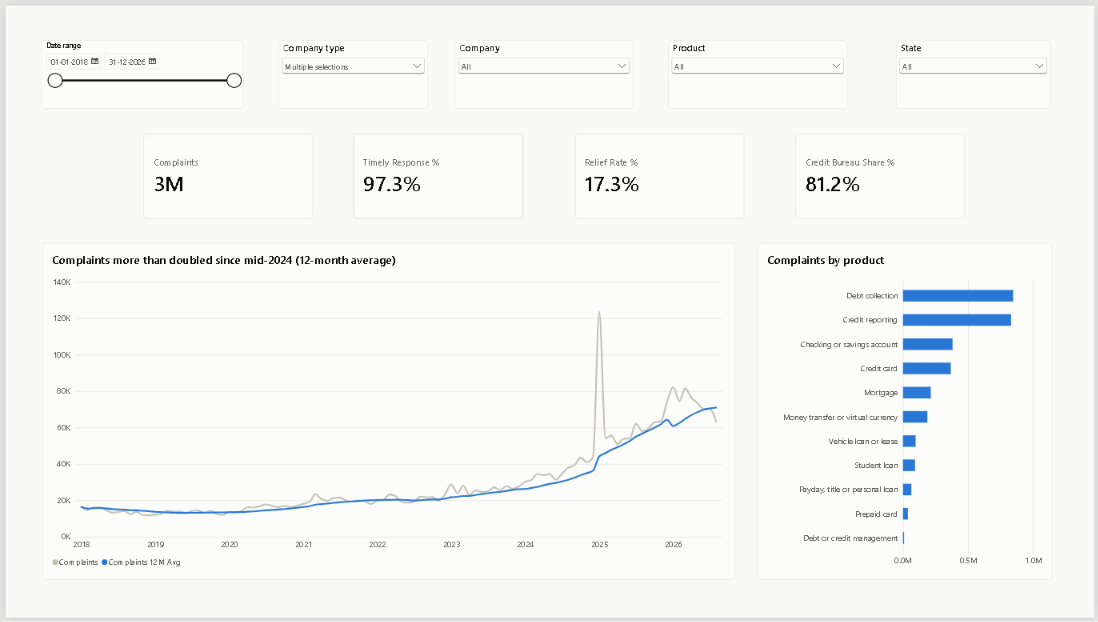

The dashboard page shown, as its layout file describes it:
{"tool":"powerbi","page":{"name":"Executive Overview","canvas":[1920,1080],"ordinal":0},"visuals":[{"type":"cardVisual","fields":{"Data":["_Measures.Complaints"]},"box":[241.7,226.7,300,150],"z":0},{"type":"cardVisual","fields":{"Data":["_Measures.Timely Response %"]},"box":[613.3,226.7,300,150],"z":1000},{"type":"cardVisual","fields":{"Data":["_Measures.Relief Rate %"]},"box":[1003.3,226.7,300,150],"z":2000},{"type":"cardVisual","fields":{"Data":["_Measures.Credit Bureau Share %"]},"box":[1393.3,226.7,300,150],"z":3000},{"type":"slicer","fields":{"Values":["dim_date.date"]},"box":[63.8,61.5,356.8,120.5],"z":4000},{"type":"slicer","fields":{"Values":["dim_company.company_type"]},"box":[482,61.5,263.6,120.5],"z":5000},{"type":"slicer","fields":{"Values":["dim_company.company_name"]},"box":[793.4,61.5,313.6,120.5],"z":6000},{"type":"slicer","fields":{"Values":["dim_product.product_group"]},"box":[1168.4,61.5,315.9,120.5],"z":7000},{"type":"slicer","fields":{"Values":["dim_geography.state_name"]},"box":[1570.7,61.5,272.7,120.5],"z":8000},{"type":"lineChart","title":"Complaints more than doubled since mid-2024 (12-month average)","fields":{"Category":["dim_date.month_start"],"Y":["_Measures.Complaints","_Measures.Complaints 12M Avg"]},"box":[64.1,417.9,1221.6,594.1],"z":9000},{"type":"clusteredBarChart","title":"Complaints by product","fields":{"Category":["dim_product.product_group"],"Y":["_Measures.Complaints"]},"box":[1325.6,417.9,519.6,594.1],"z":10000}]}

Visuals, with their boxes in screenshot pixels (x1, y1, x2, y2), scaled from the page's 1920x1080 canvas onto the 1098x622 screenshot:
cardVisual - _Measures.Complaints: (138,131,310,217)
cardVisual - _Measures.Timely Response %: (351,131,522,217)
cardVisual - _Measures.Relief Rate %: (574,131,745,217)
cardVisual - _Measures.Credit Bureau Share %: (797,131,968,217)
slicer - dim_date.date: (36,35,241,105)
slicer - dim_company.company_type: (276,35,426,105)
slicer - dim_company.company_name: (454,35,633,105)
slicer - dim_product.product_group: (668,35,849,105)
slicer - dim_geography.state_name: (898,35,1054,105)
"Complaints more than doubled since mid-2024 (12-month average)" lineChart: (37,241,735,583)
"Complaints by product" clusteredBarChart: (758,241,1055,583)
